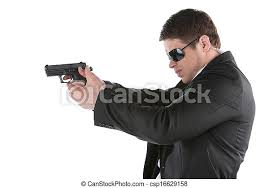gun: (40, 61, 96, 91)
